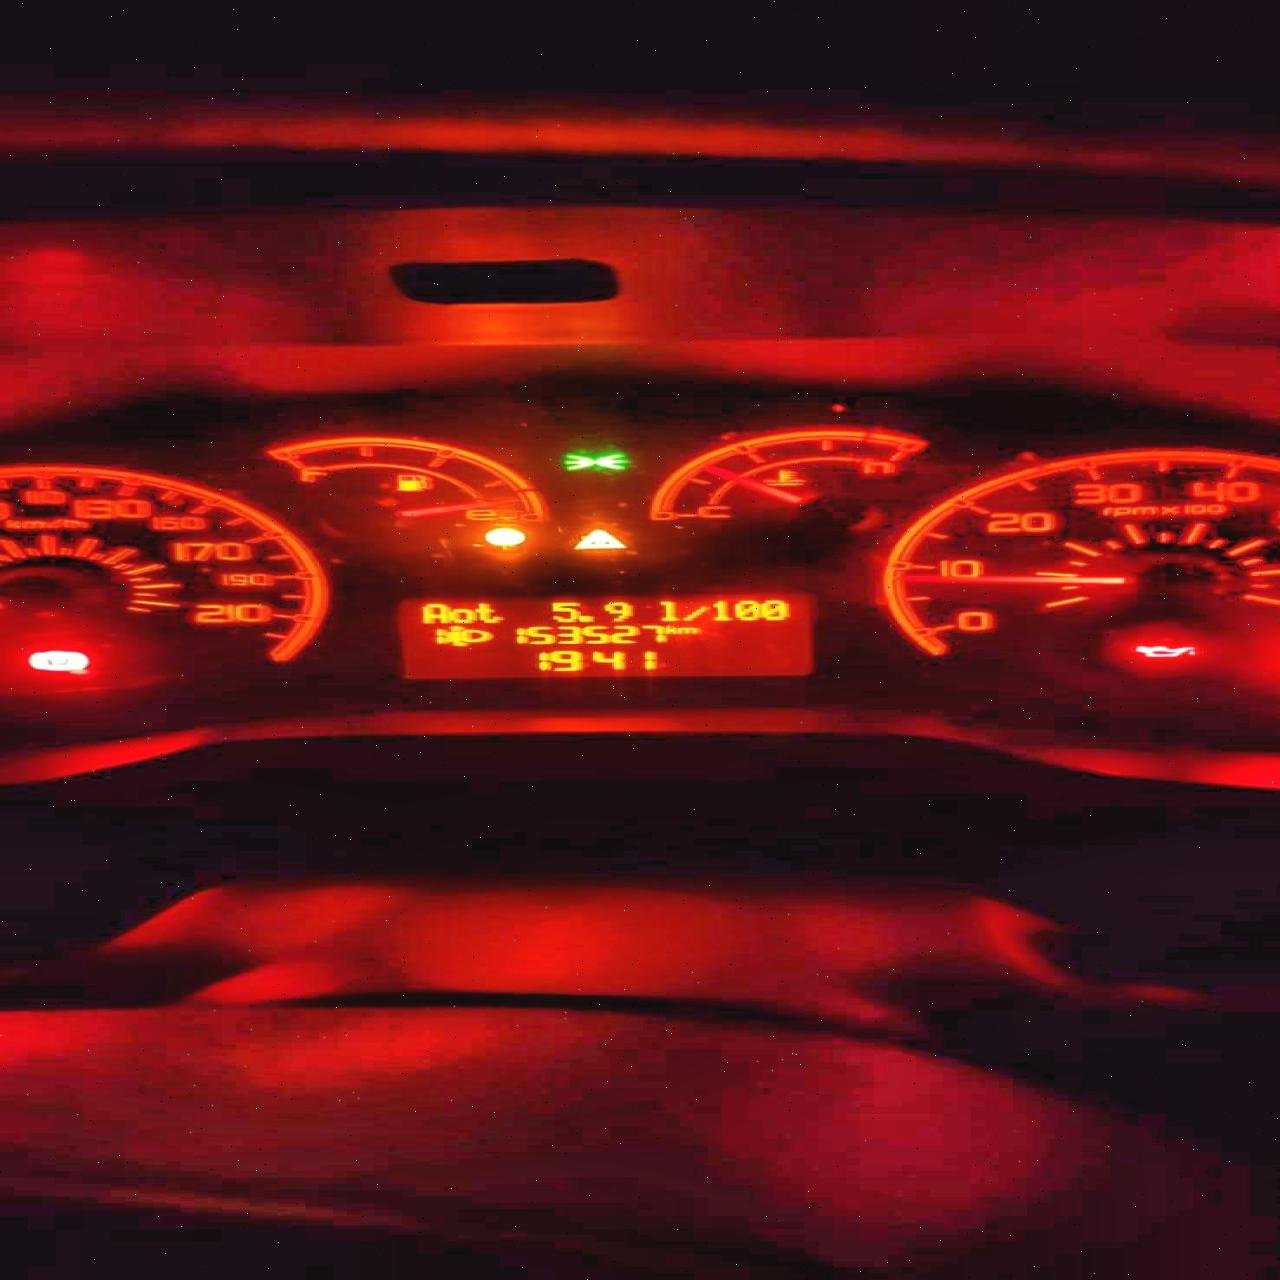-: (577, 614, 594, 624)
0: (734, 599, 760, 621), (762, 600, 788, 621)
1: (638, 649, 659, 672), (712, 599, 730, 621), (538, 651, 551, 672), (513, 625, 524, 644), (434, 627, 444, 646)
2: (611, 624, 636, 645)
3: (557, 625, 581, 644)
4: (592, 651, 626, 672)
5: (549, 600, 578, 622), (525, 625, 553, 644), (581, 624, 607, 642)
7: (640, 624, 666, 644)
9: (550, 648, 581, 672), (604, 601, 629, 620)
X: (475, 600, 505, 626), (658, 599, 680, 621), (421, 602, 445, 622), (449, 608, 475, 622), (683, 606, 706, 621), (678, 626, 697, 633), (666, 625, 680, 634)
odometer: (388, 591, 818, 680)
